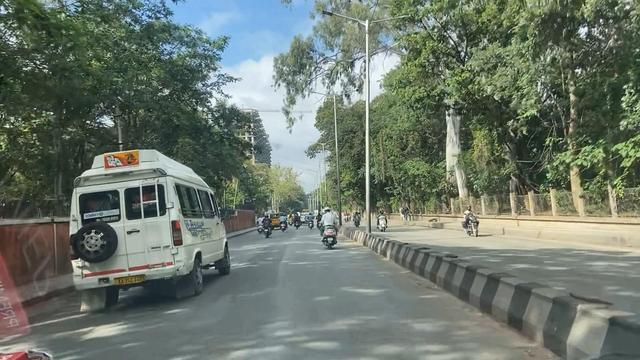HMV: (50, 144, 235, 302)
